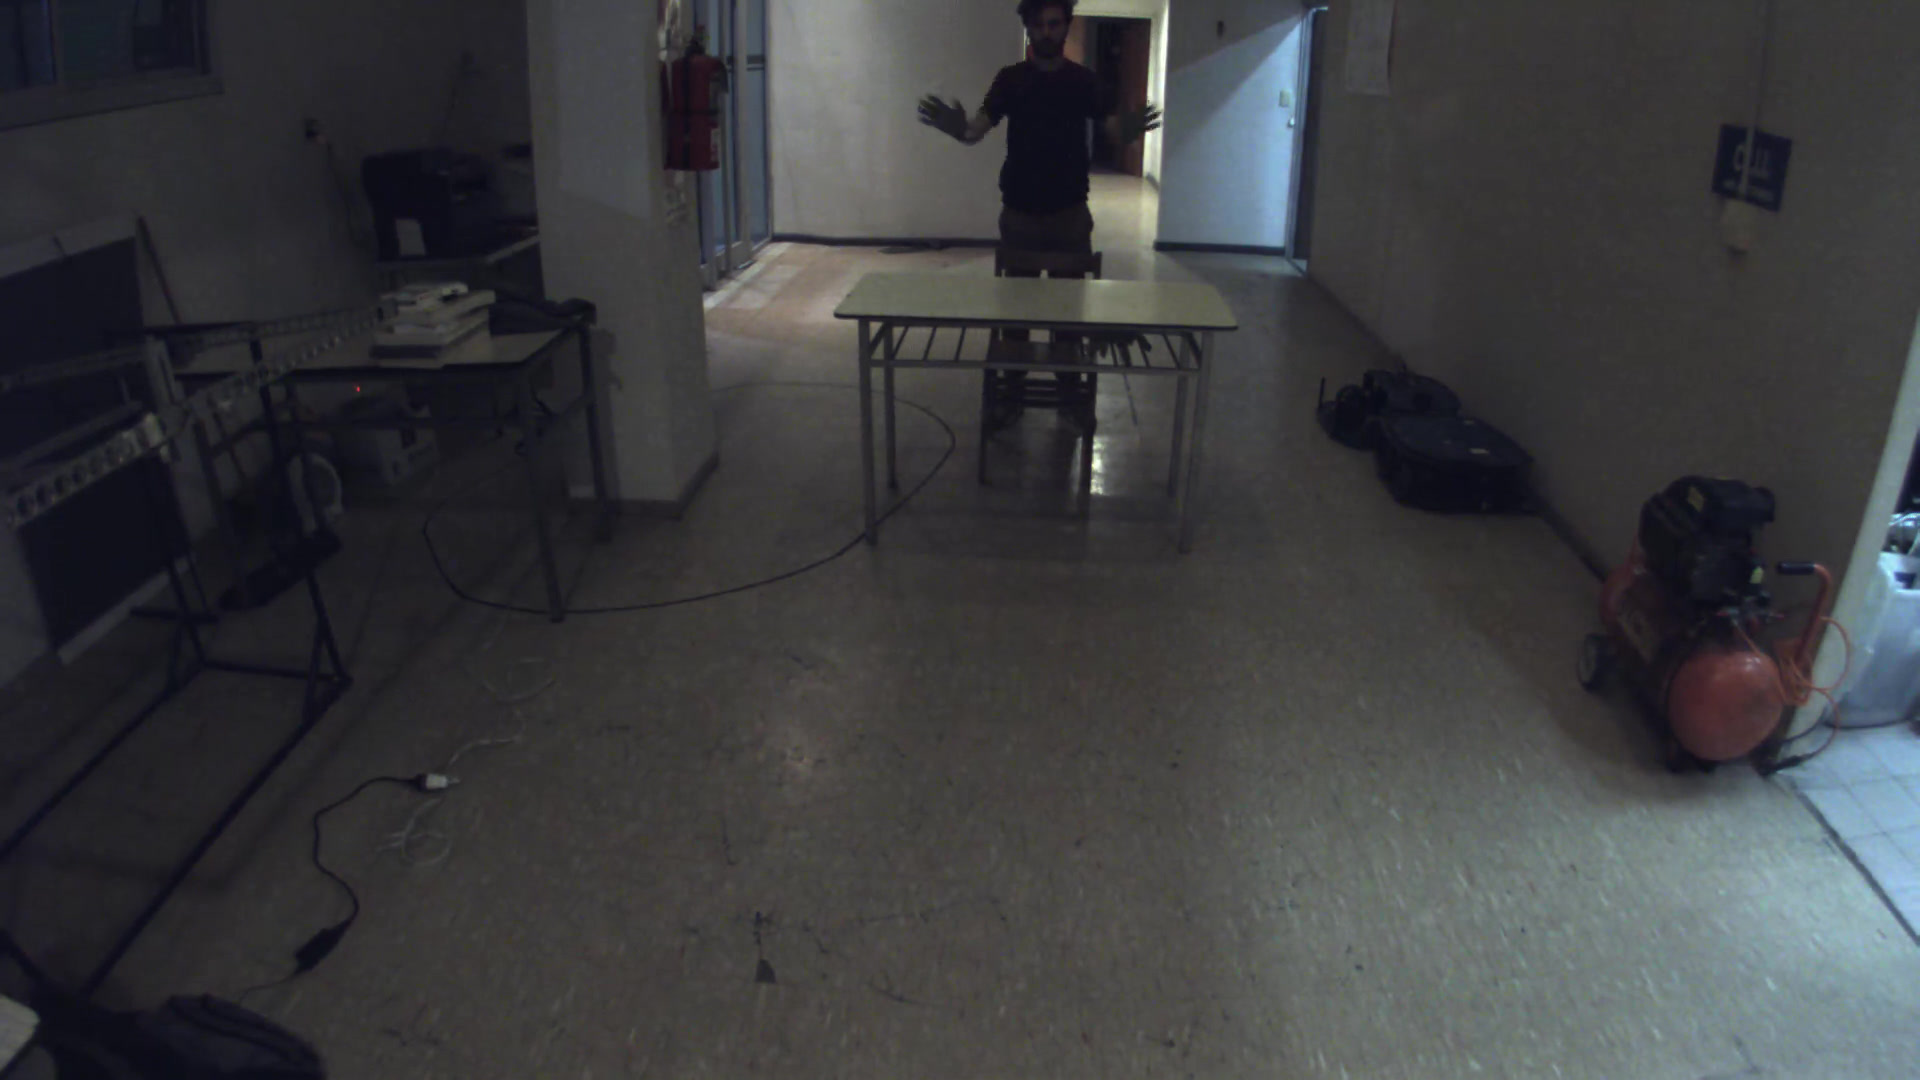hand: (909, 94, 992, 154), (1109, 90, 1174, 146)
